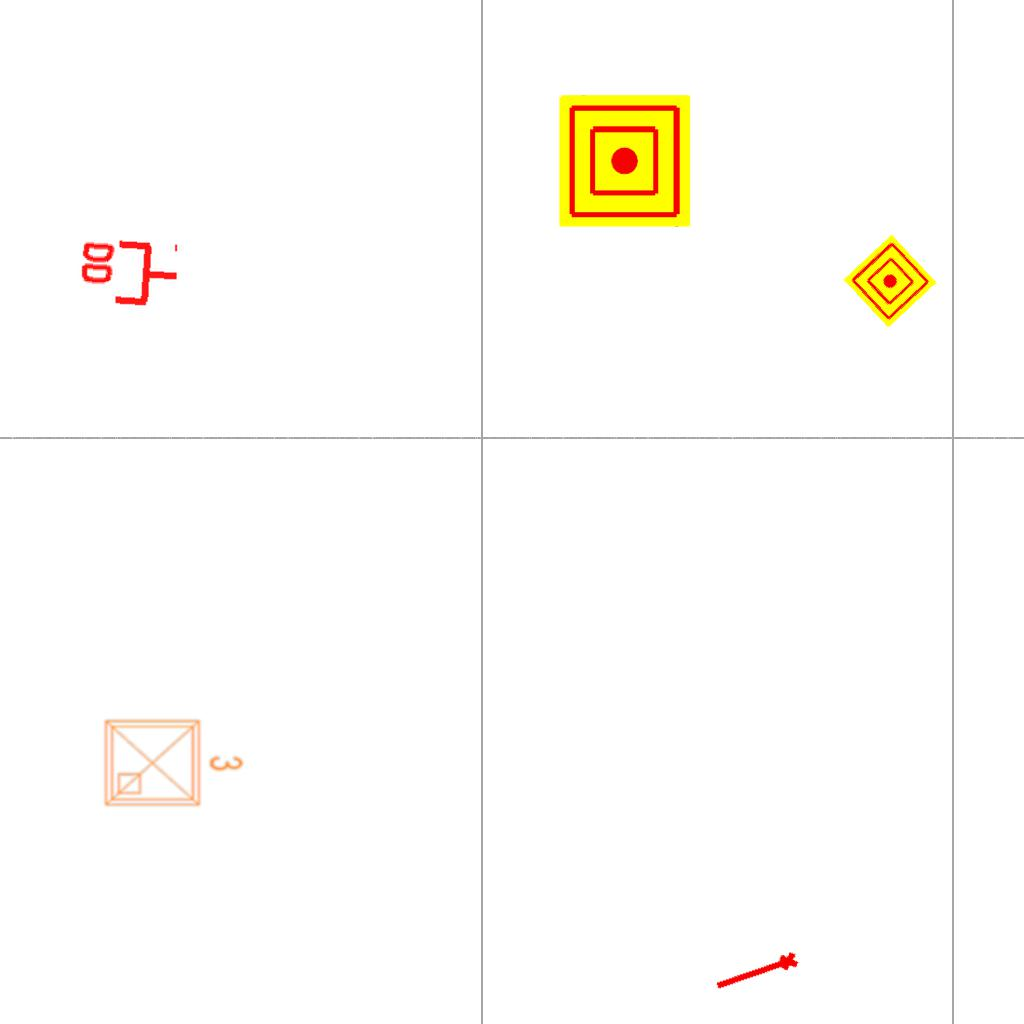ASR_Ansaugoeffnung: (711, 948, 803, 999)
Datenanschluss_zweifach: (74, 236, 183, 313)
Einbaudownlights_LED_Konferenzraeume: (98, 709, 248, 813)
NAM-Nichtautomatischer_Melder: (559, 95, 691, 227), (843, 234, 937, 328)
